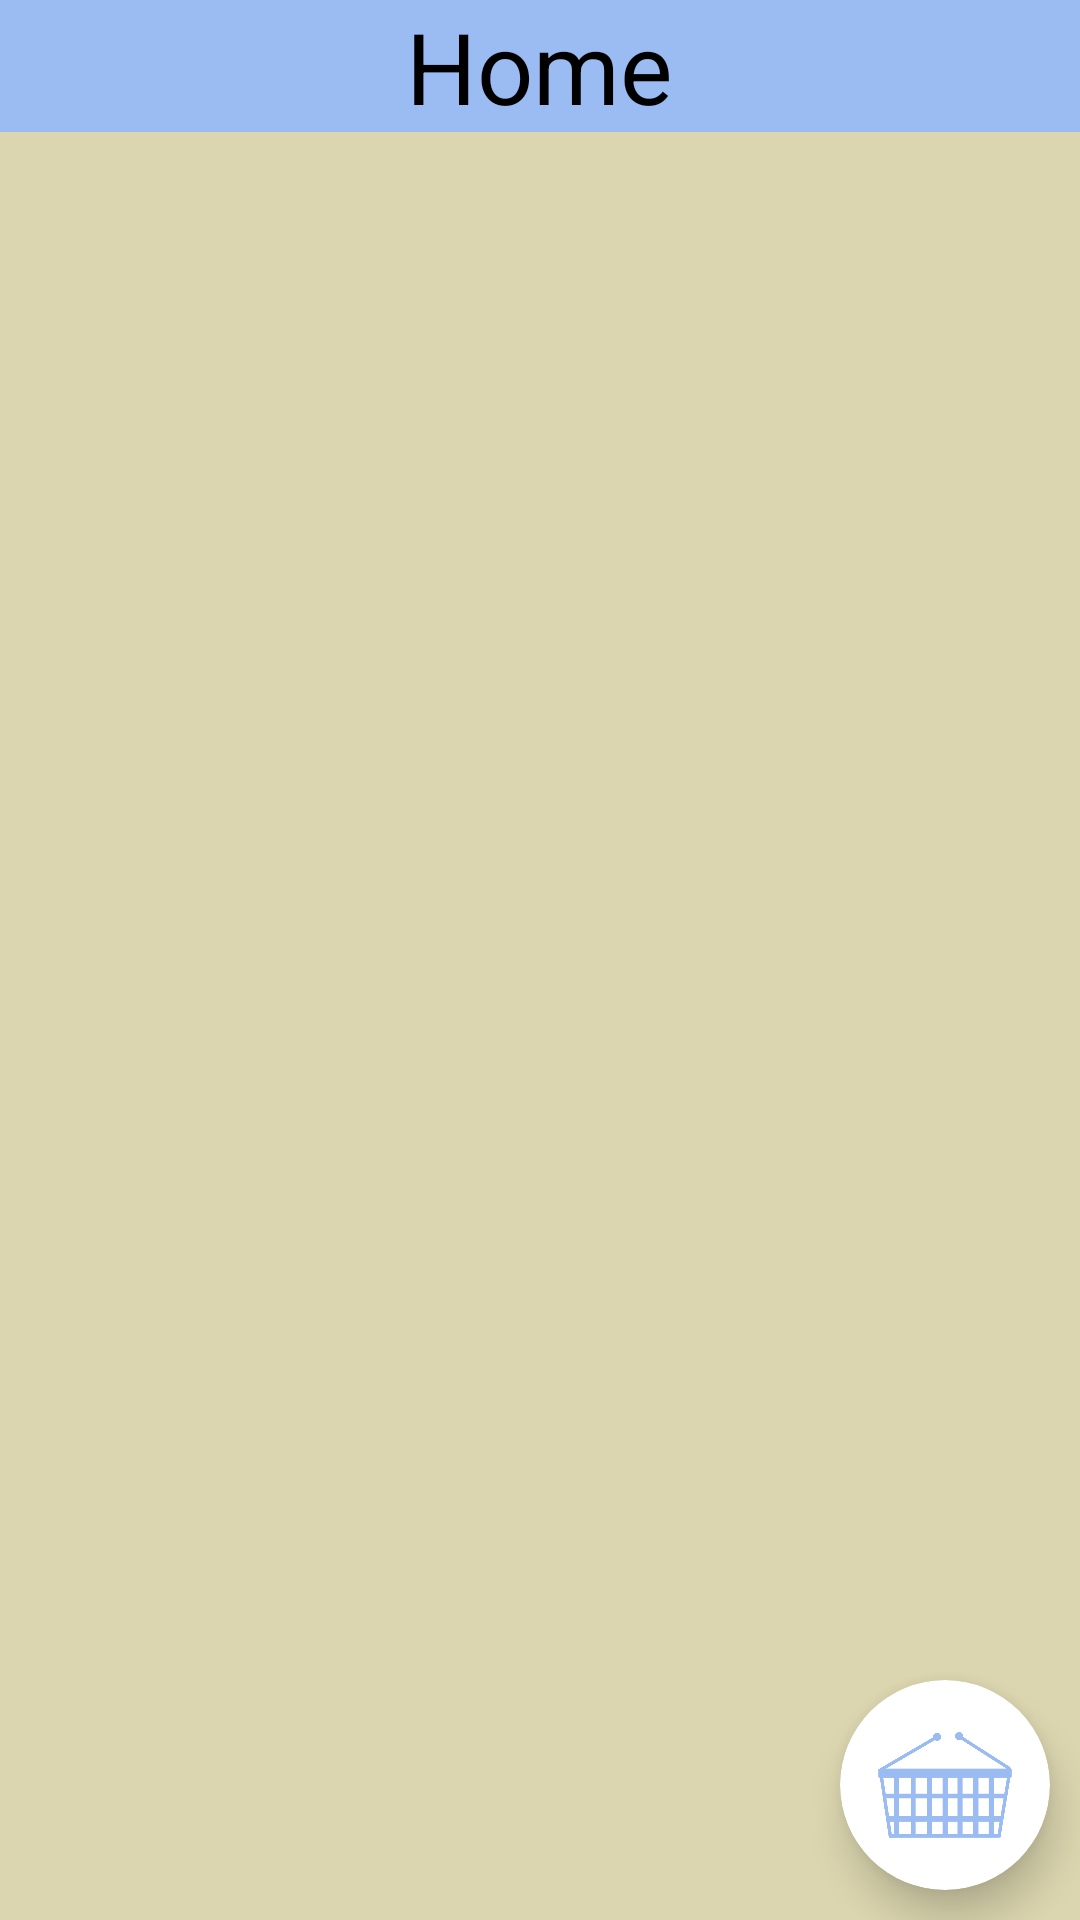

Icon bounding boxes for this 1080*1920 phone screenshot, format (x1, y1, x2, y2):
buyer cart: (878, 1732, 1012, 1838)
